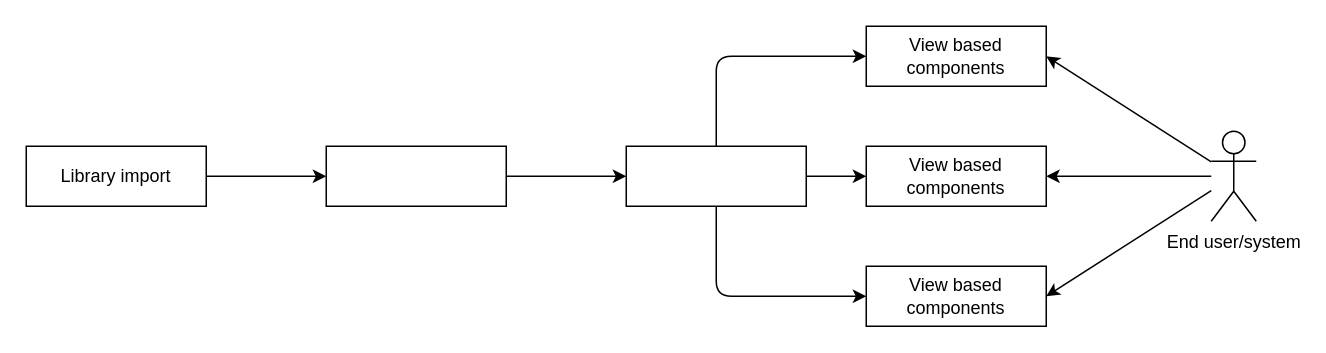
Some shapes in this 1326 by 353 pixel diagram are drawn without their labels. The box of each missing label's shape, as (x1, y1, x2, y2) in pixels:
Library handler: (325, 145, 506, 206)
Utils files: (625, 145, 806, 206)
